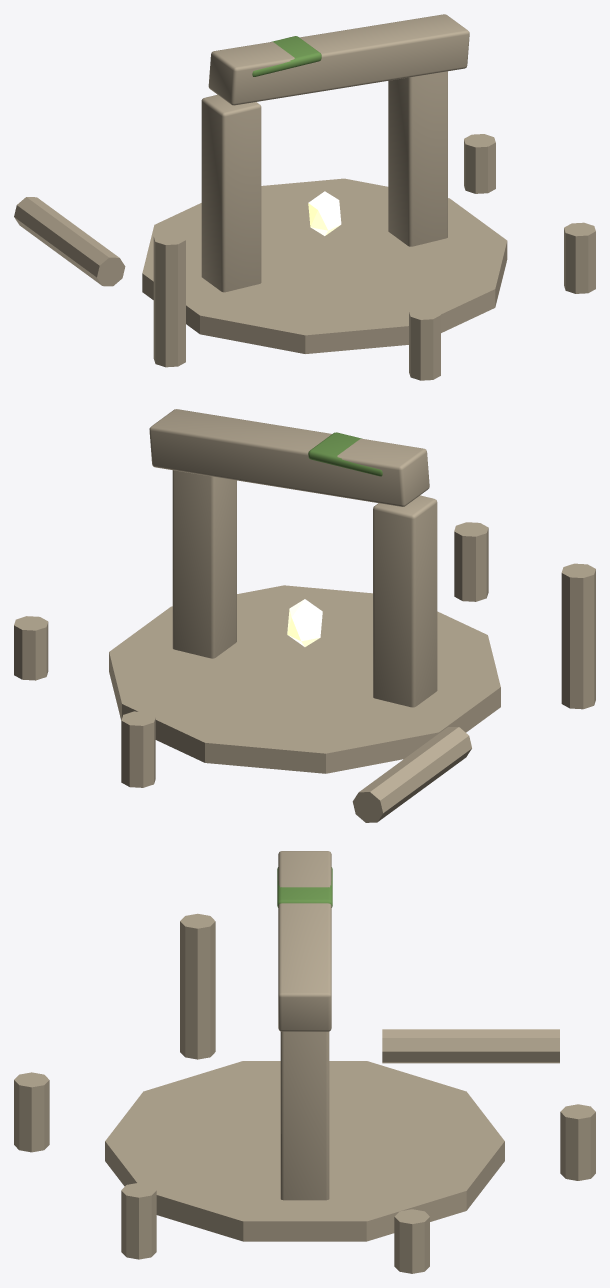
File: poi_ruin.glb
The picture shows the model from 3 angles, top to bottom: view 1: azimuth 30°, elevation 25°; view 2: azimuth 150°, elevation 25°; view 3: azimuth 270°, elevation 25°; orthographic projection. The views are drawn at different scales.
Parts seen in each view (by area): view 1: Dais, ArchTop, ArchLeg-1, ArchLeg1, Pillar3, Fallen2, Pillar4, Pillar5, Pillar0, Moss, Core; view 2: Dais, ArchTop, ArchLeg-1, ArchLeg1, Pillar3, Fallen2, Pillar4, Pillar1, Pillar0, Moss, Core; view 3: Dais, ArchTop, ArchLeg1, Fallen2, Pillar3, Pillar4, Pillar1, Pillar5, Pillar0, Moss.
Boxes of the visible parts, left/top/right/bottom form: Dais: left=142, top=178, right=507, bottom=353; ArchTop: left=208, top=14, right=469, bottom=105; ArchLeg-1: left=201, top=94, right=261, bottom=292; ArchLeg1: left=388, top=71, right=447, bottom=246; Pillar3: left=153, top=231, right=185, bottom=367; Fallen2: left=14, top=197, right=125, bottom=286; Pillar4: left=409, top=306, right=440, bottom=380; Pillar5: left=564, top=222, right=595, bottom=293; Pillar0: left=464, top=134, right=495, bottom=193; Moss: left=252, top=36, right=321, bottom=76; Core: left=308, top=191, right=341, bottom=235; Dais: left=109, top=585, right=500, bottom=773; ArchTop: left=149, top=409, right=429, bottom=506; ArchLeg-1: left=373, top=495, right=437, bottom=707; ArchLeg1: left=172, top=470, right=236, bottom=658; Pillar3: left=561, top=563, right=595, bottom=709; Fallen2: left=352, top=727, right=471, bottom=822; Pillar4: left=454, top=522, right=488, bottom=601; Pillar1: left=121, top=711, right=155, bottom=787; Pillar0: left=14, top=616, right=48, bottom=680; Moss: left=308, top=432, right=382, bottom=476; Core: left=287, top=599, right=322, bottom=646; Dais: left=105, top=1061, right=504, bottom=1241; ArchTop: left=278, top=851, right=331, bottom=1031; ArchLeg1: left=280, top=1031, right=329, bottom=1200; Fallen2: left=382, top=1029, right=559, bottom=1063; Pillar3: left=180, top=913, right=215, bottom=1059; Pillar4: left=14, top=1072, right=49, bottom=1152; Pillar1: left=560, top=1104, right=595, bottom=1180; Pillar5: left=121, top=1182, right=156, bottom=1259; Pillar0: left=394, top=1209, right=429, bottom=1273; Moss: left=277, top=867, right=332, bottom=907.
Size of the model in its own units: 12.22 by 6.41 by 13.11.
